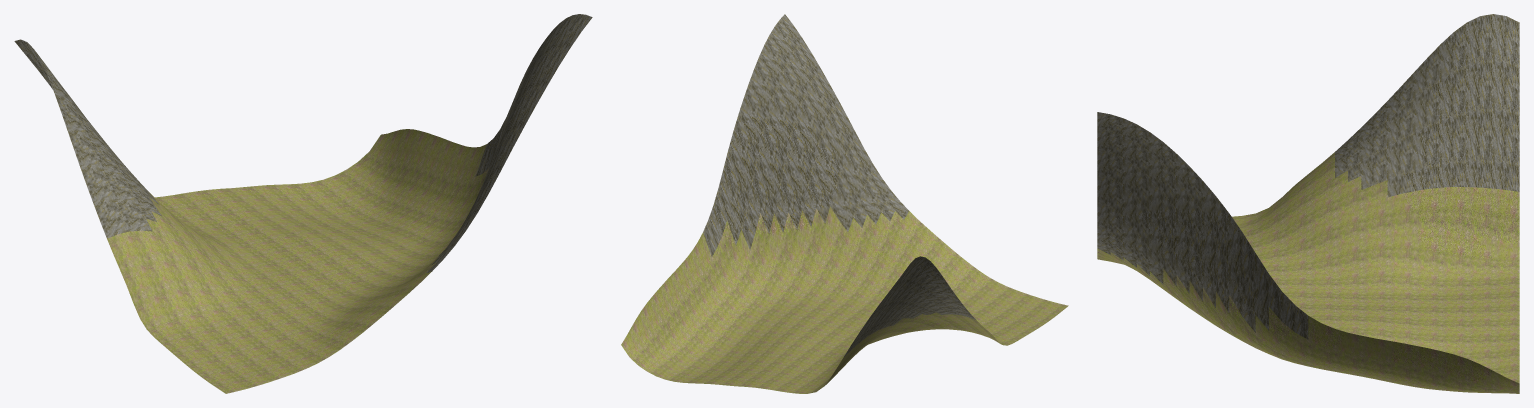
The model's file is chunk_1_2.glb.
The picture shows the model from 3 angles, left to right: view 1: azimuth 30°, elevation 25°; view 2: azimuth 150°, elevation 25°; view 3: azimuth 270°, elevation 25°; orthographic projection. The views are drawn at different scales.
Visible parts, largest first — view 1: chunk_1_2-col; view 2: chunk_1_2-col; view 3: chunk_1_2-col.
Part boxes in pixels (x1,y1,x2,y2): chunk_1_2-col: (14,14,592,393); chunk_1_2-col: (621,14,1068,393); chunk_1_2-col: (1097,14,1519,393).
Size of the model in its own units: 64 by 51.1 by 64.
Materials: 2 (2 with a texture image).
